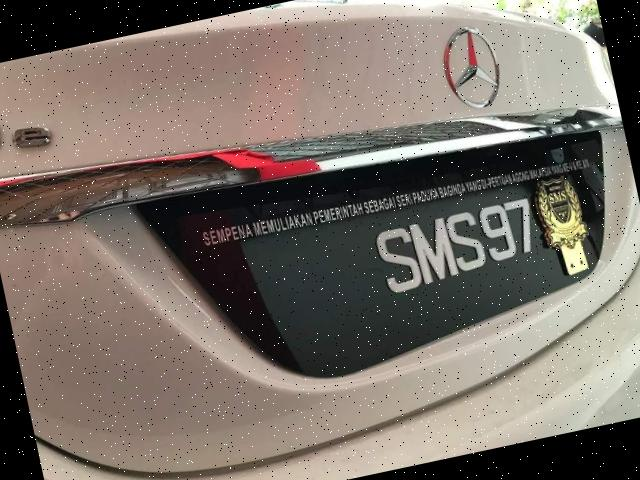License_Plate: (344, 181, 564, 318)
